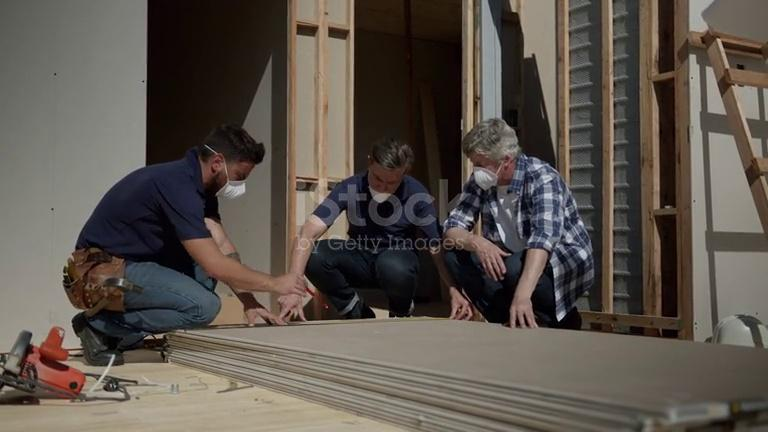mask: (472, 165, 500, 200), (211, 172, 246, 200)
person: (61, 125, 309, 368), (274, 137, 474, 323), (441, 117, 595, 329)
